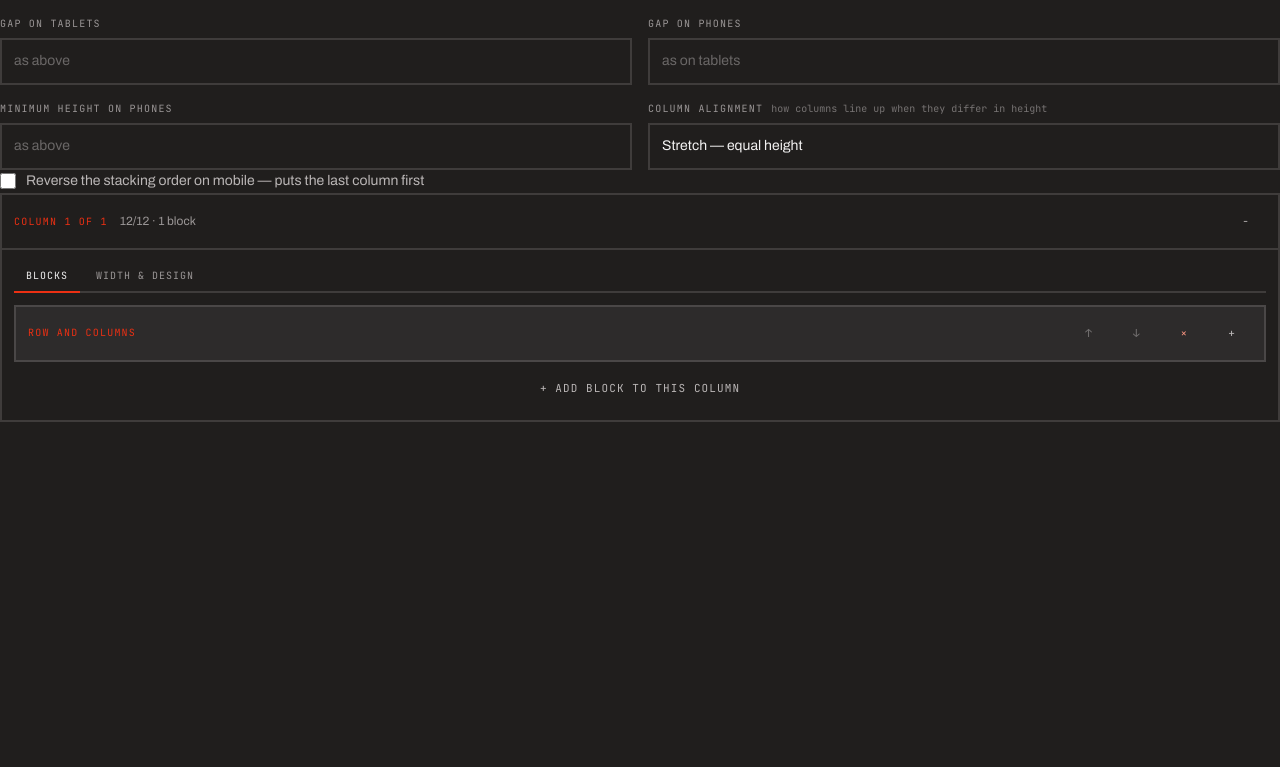
the block picker inside a column › stops offering a row where the renderer would drop it
The width and height of the screenshot is (1280, 767).
Step 1. Click the button "Row and columns" → (82, 333), box 28,325 -> 1061,342
(page scrolled)
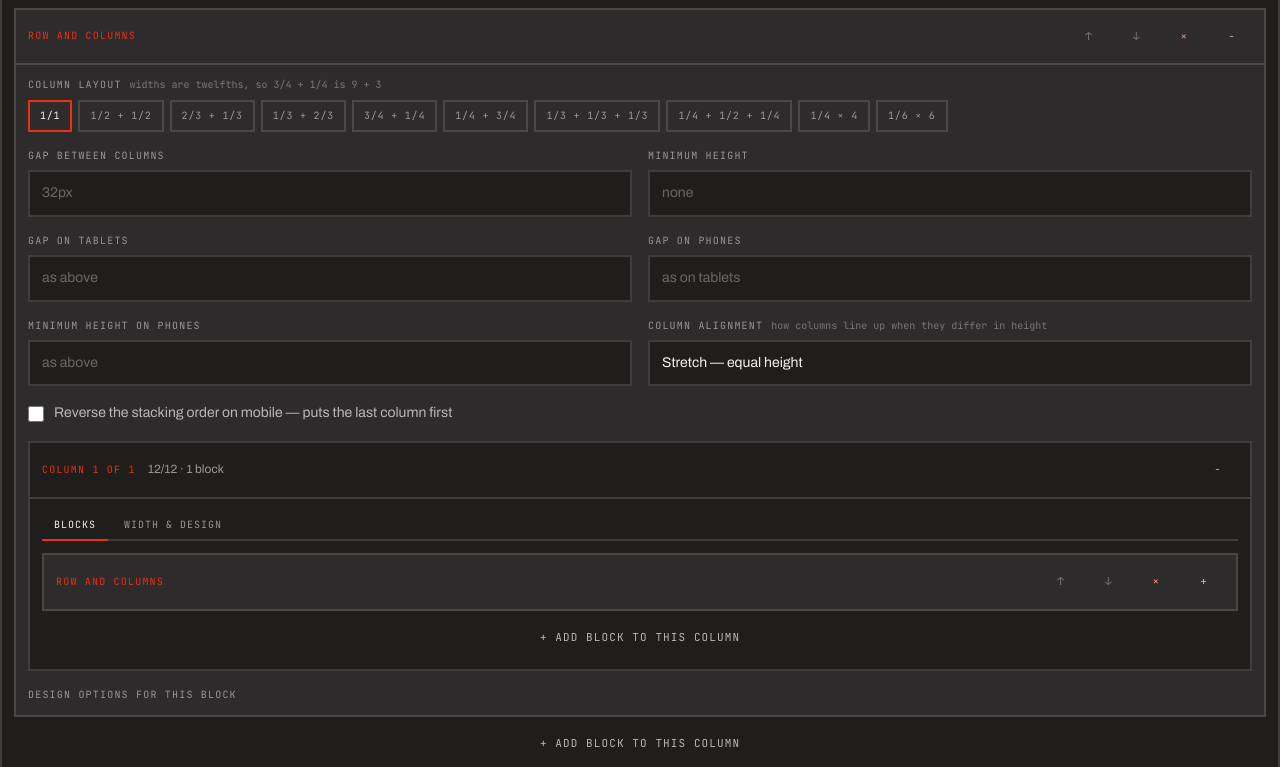
Step 2. Click the 2nd button "Row and columns" → (110, 581), box 56,574 -> 1033,590
(page scrolled)
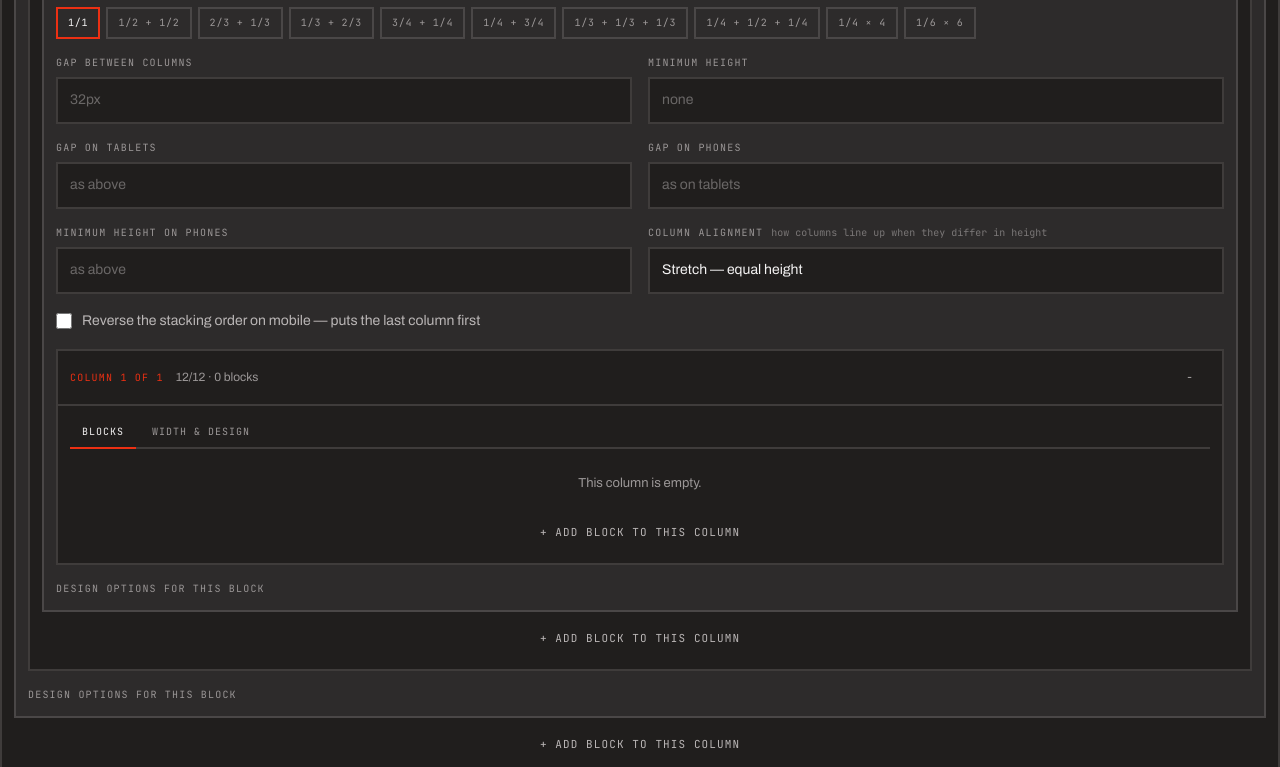
Step 3. Click the button "+ Add block to this column" below "This column is empty." → (640, 532), box 70,514 -> 1210,551
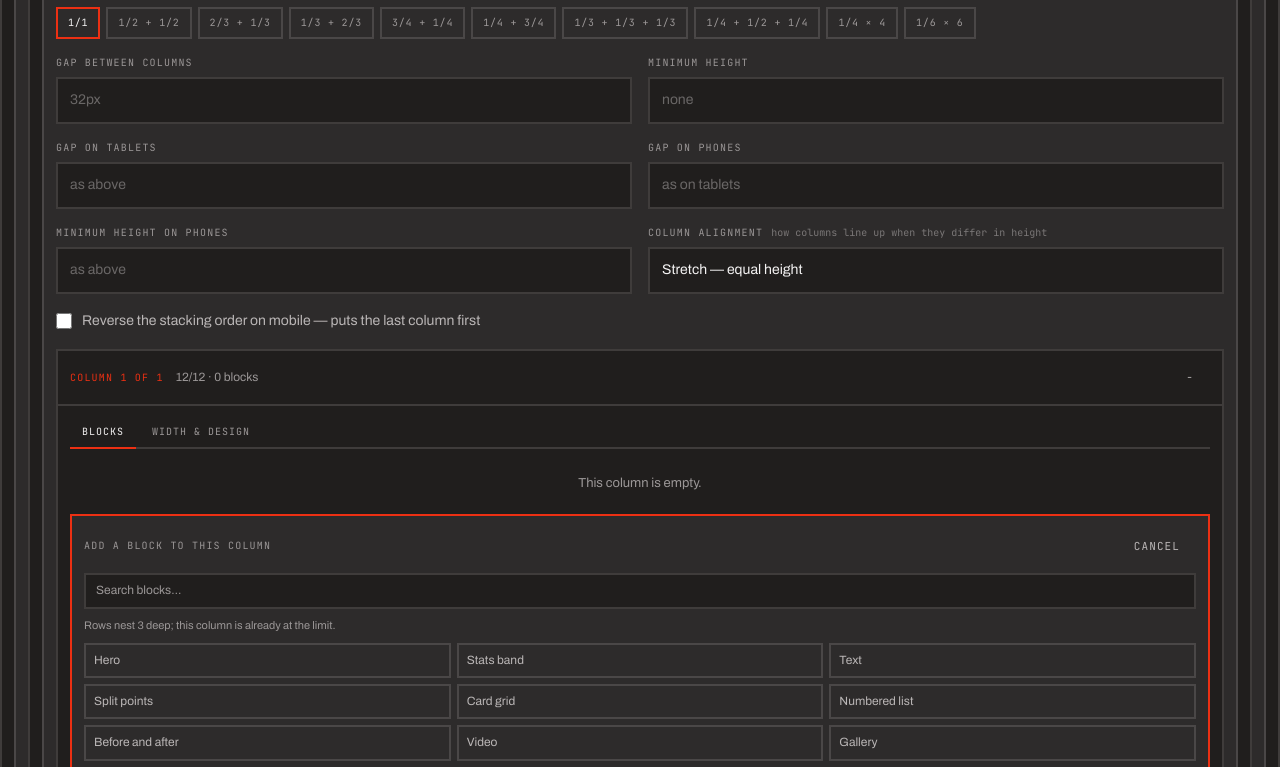
Expected: the text "Rows nest 3 deep; this column is already at the limit." is shown, 84,619 -> 336,631
